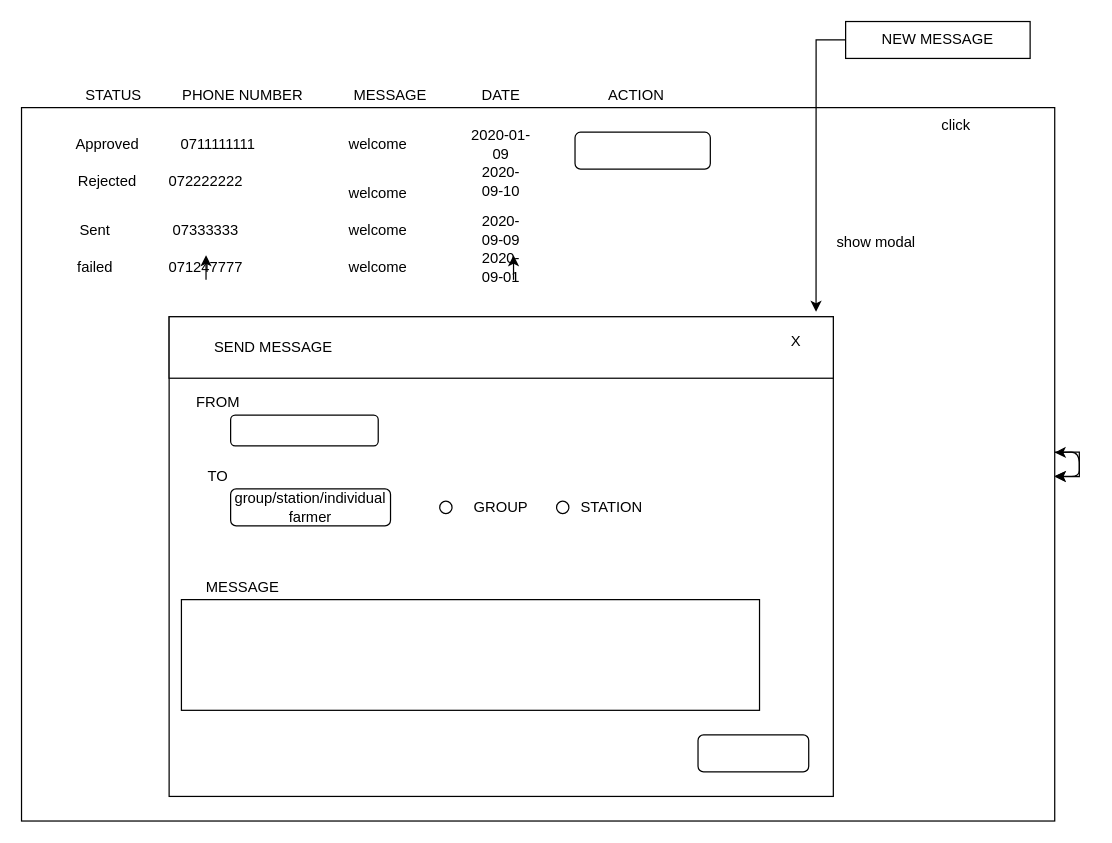
Image size: 1112x843. Some labels were removed from this diagram. The centre of each missing label's shape, as x and y in pixels:
"SEND" goes at pixel 753 753.
"send/cancel/delete" goes at pixel 642 150.
